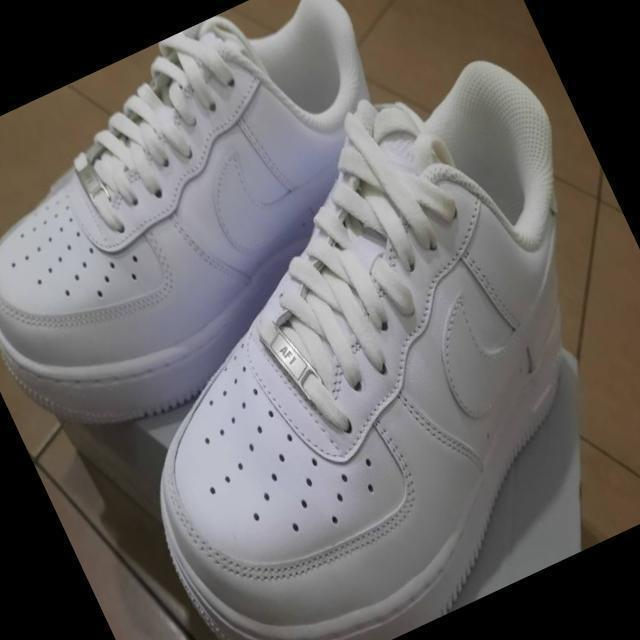nike original air force: (38, 40, 640, 640), (0, 0, 493, 501)
